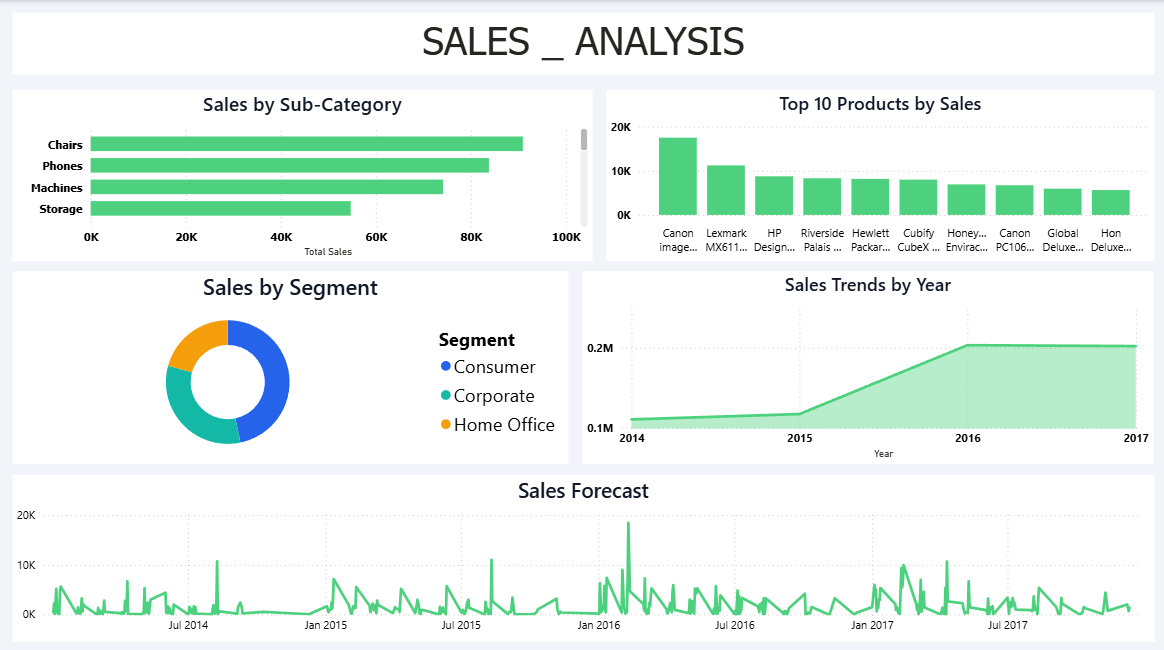

This screenshot's page, from the dashboard's own definition file:
{"tool":"powerbi","page":{"name":"SALES_ANALYSIS","canvas":[1280,720],"ordinal":1},"visuals":[{"type":"clusteredBarChart","title":"Sales by Sub-Category","fields":{"Y":["ALL_MEASURES.Total Sales"],"Category":["Sample - Superstore.Sub-Category"]},"box":[13.3,98.3,636.7,188.3],"z":0},{"type":"clusteredColumnChart","title":"Top 10  Products by Sales ","fields":{"Category":["Sample - Superstore.Product Name"],"Y":["ALL_MEASURES.Total Sales"]},"box":[665,98.3,601.7,188.3],"z":1000},{"type":"donutChart","title":" Sales by Segment","fields":{"Y":["ALL_MEASURES.Total Sales"],"Category":["Sample - Superstore.Segment"]},"box":[13.3,298.3,610,211.7],"z":2000},{"type":"areaChart","title":"Sales Trends by Year","fields":{"Category":["Sample - Superstore.Ship Date.Variation.Date Hierarchy.Year"],"Y":["ALL_MEASURES.Total Sales"]},"box":[640,298.3,626.7,211.7],"z":3000},{"type":"lineChart","title":"Sales Forecast","fields":{"Category":["Sample - Superstore.Order Date"],"Y":["ALL_MEASURES.Total Sales"]},"box":[13.3,521.7,1253.3,183.3],"z":4000},{"type":"textbox","box":[13.3,13.3,1253.3,68.3],"z":5000}]}

Visuals, with their boxes in screenshot pixels (x1, y1, x2, y2), scaled from the page's 1280x720 canvas onto the 1164x650 screenshot:
"Sales by Sub-Category" clusteredBarChart: <bbox>12, 89, 591, 259</bbox>
"Top 10  Products by Sales " clusteredColumnChart: <bbox>605, 89, 1152, 259</bbox>
" Sales by Segment" donutChart: <bbox>12, 269, 567, 460</bbox>
"Sales Trends by Year" areaChart: <bbox>582, 269, 1152, 460</bbox>
"Sales Forecast" lineChart: <bbox>12, 471, 1152, 636</bbox>
textbox: <bbox>12, 12, 1152, 74</bbox>
